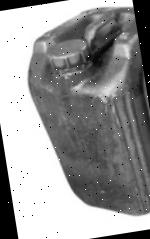plastic: (1, 0, 150, 226)
